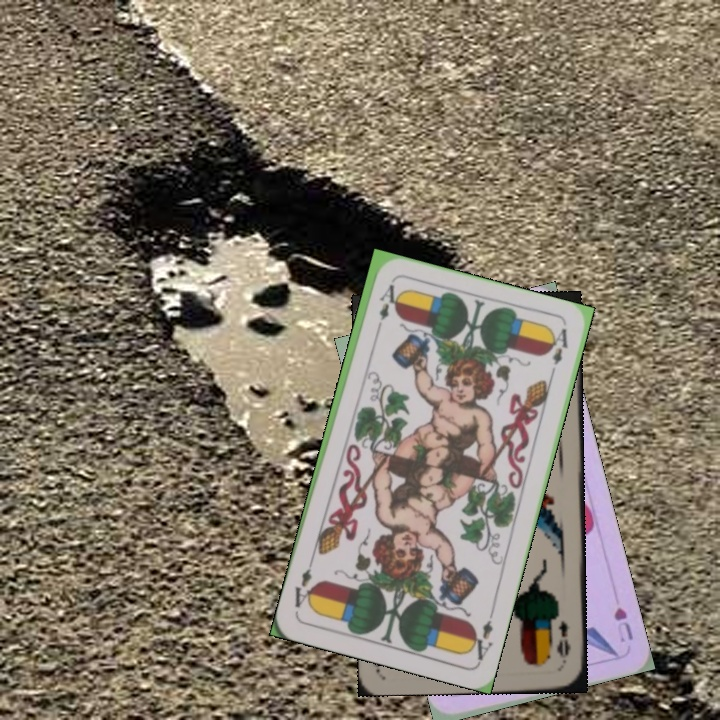EA: (464, 606, 497, 663), (372, 280, 397, 336)
EO: (553, 617, 573, 660)
HU: (610, 603, 636, 645)
